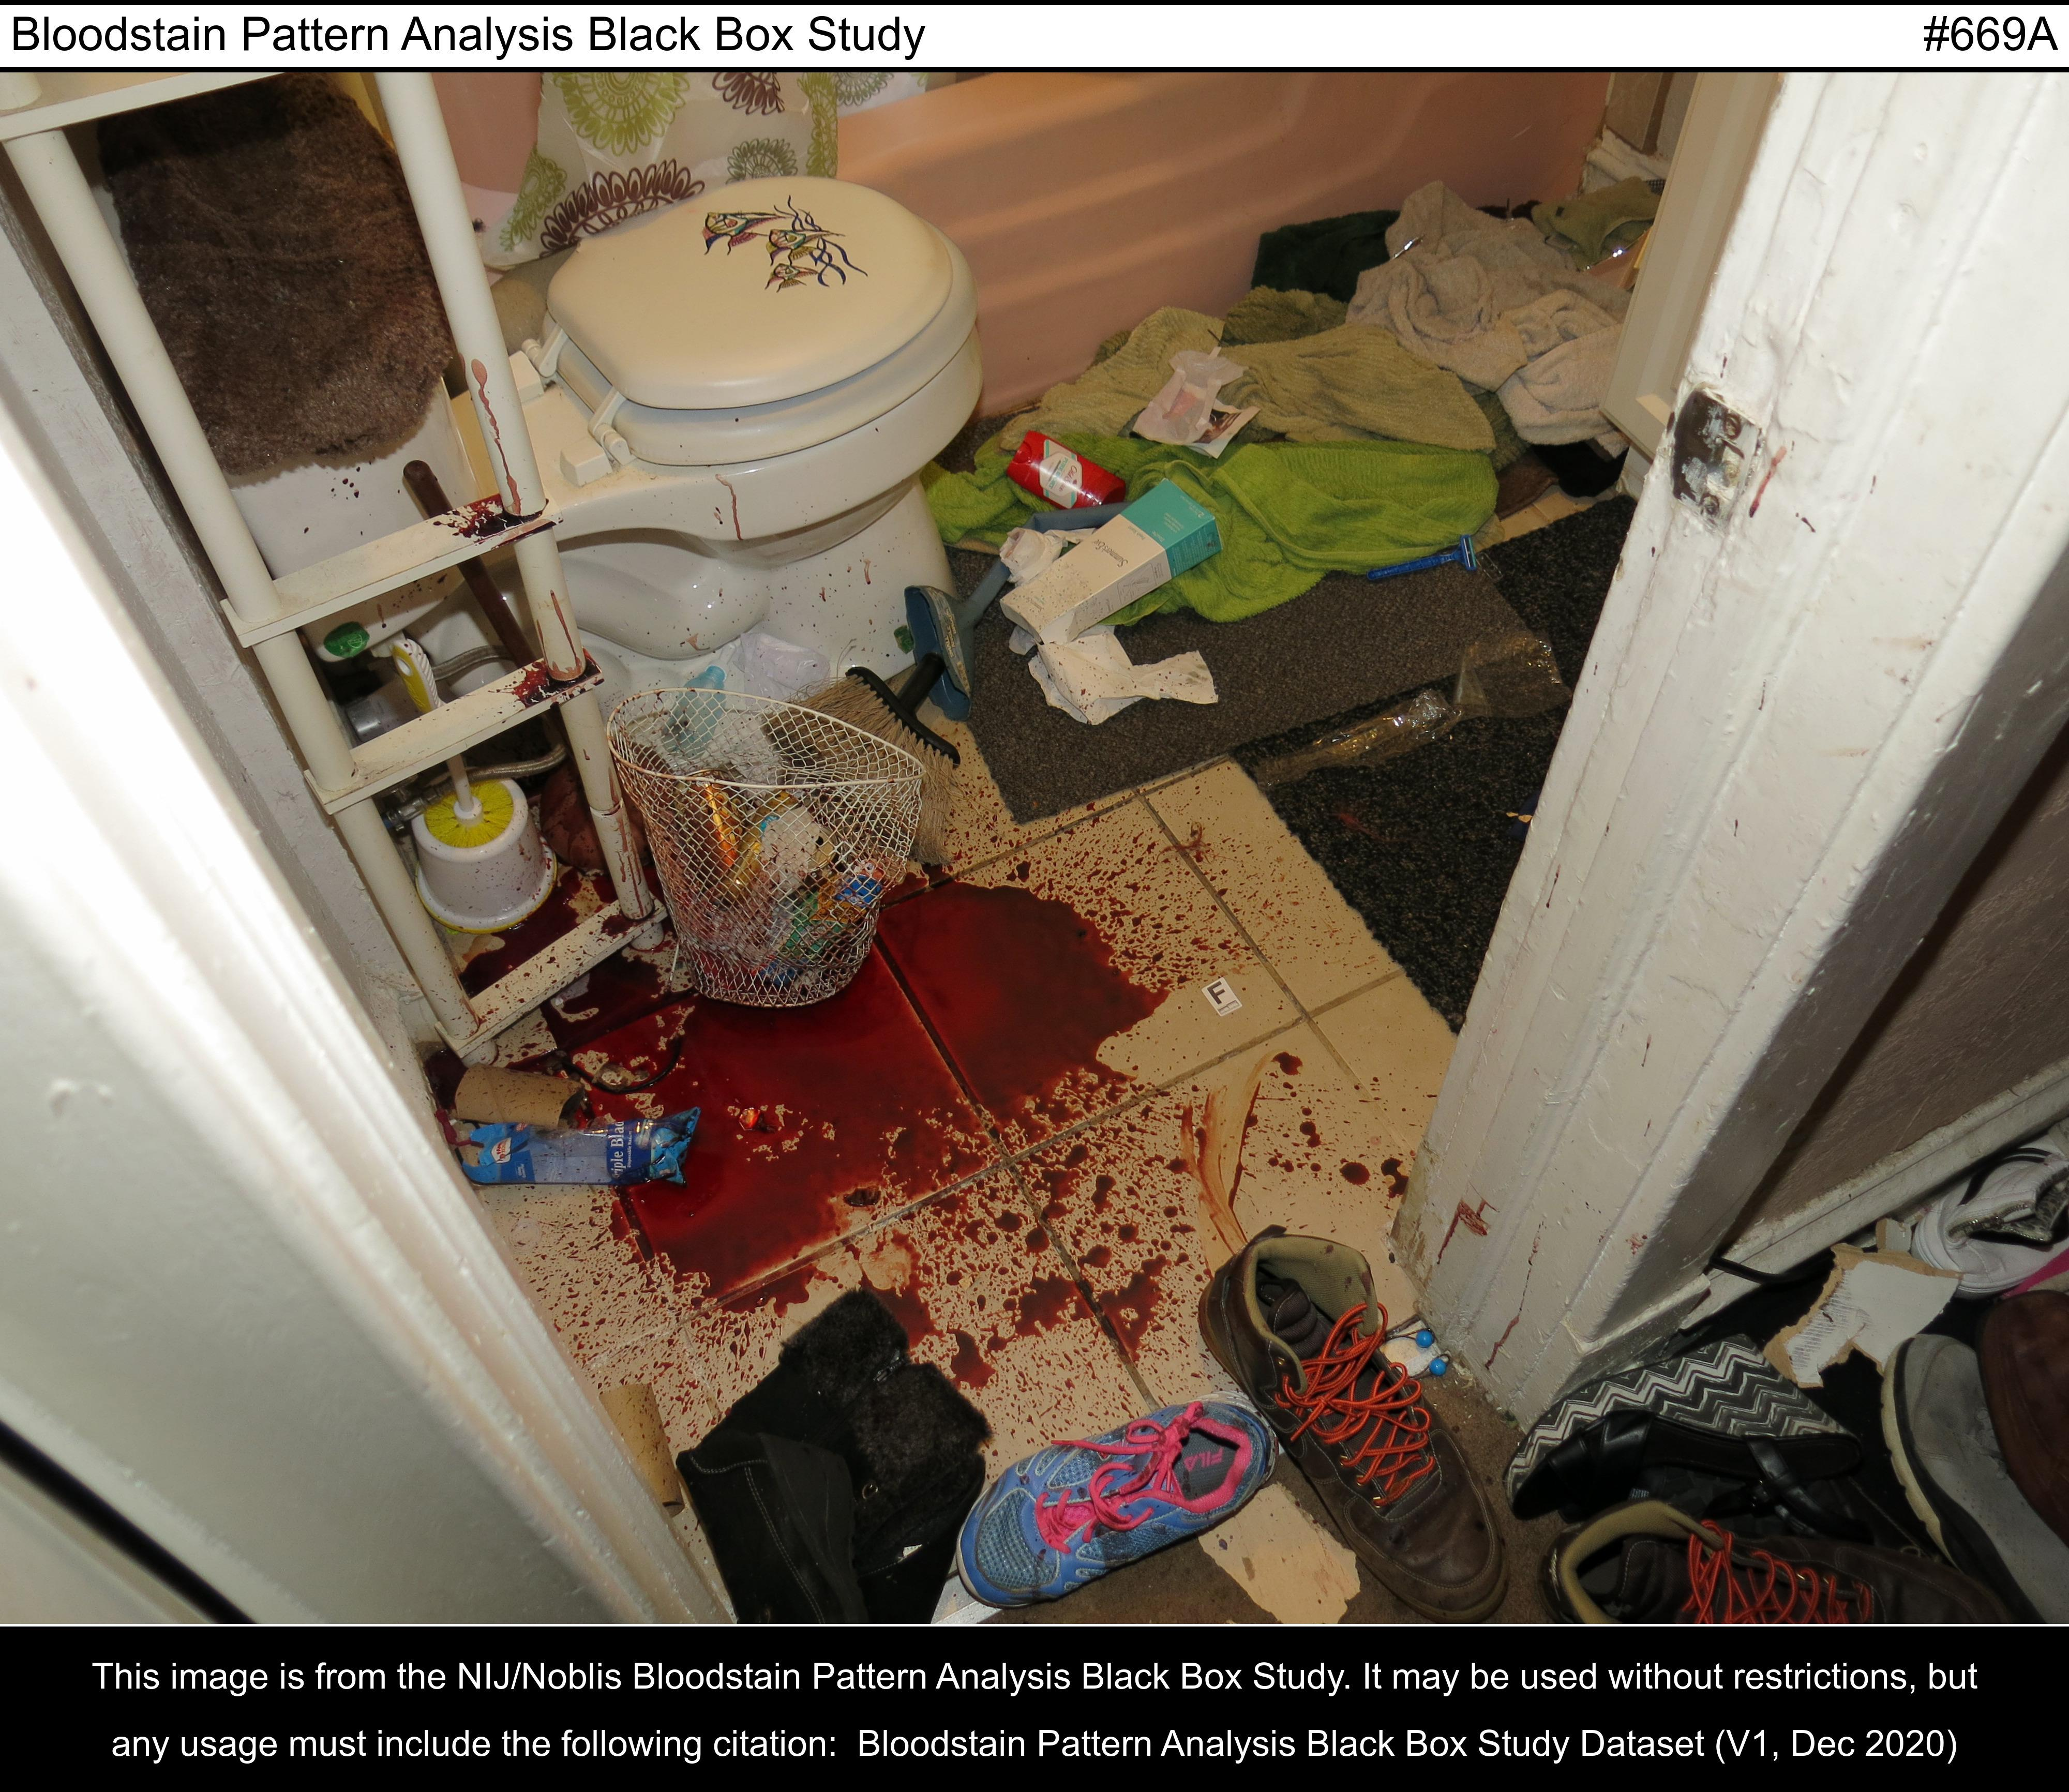Impact: (1434, 1171, 1622, 1370)
Passive: (507, 885, 1290, 1312)
